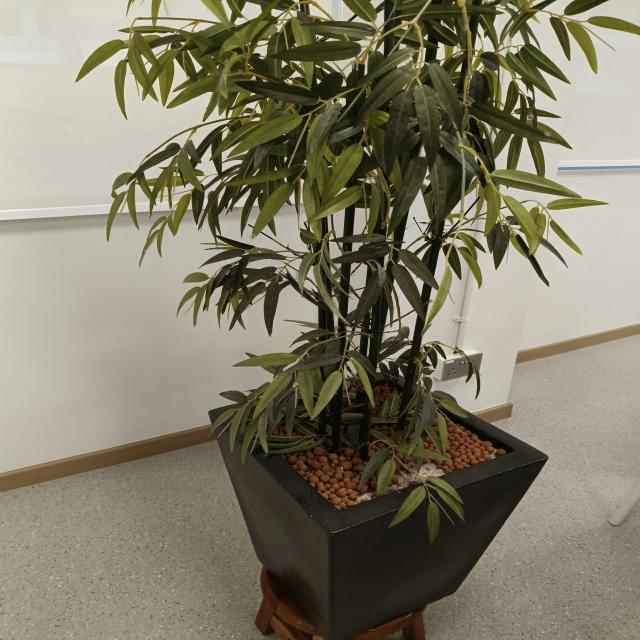Pot: (207, 364, 549, 637)
